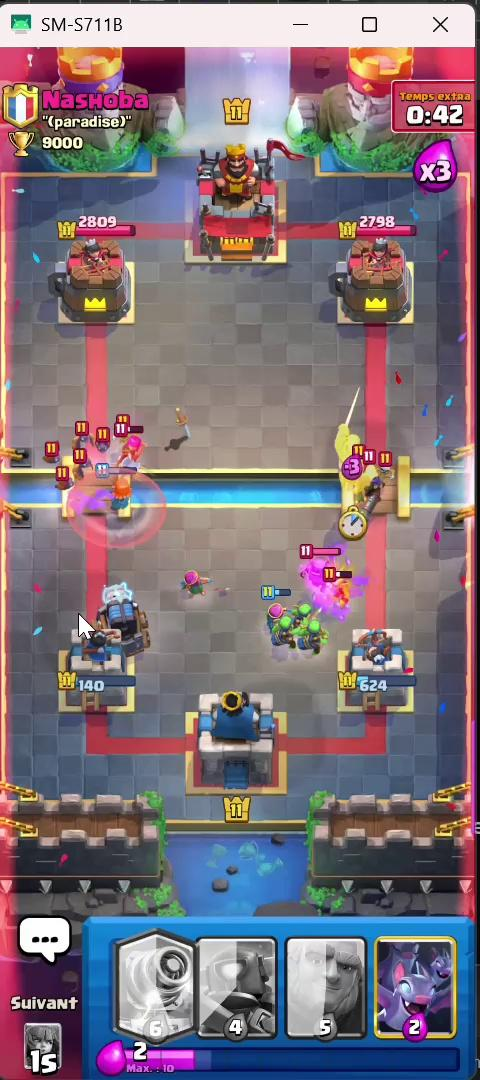archere: (106, 426, 180, 460), (183, 538, 219, 607), (255, 592, 290, 623)
bat: (30, 417, 63, 469), (54, 446, 95, 472), (65, 411, 91, 444), (44, 469, 73, 491), (92, 428, 118, 449)
gobelin_lances: (248, 617, 312, 643), (289, 592, 329, 629), (302, 624, 333, 653)
mini_PEKKA: (303, 545, 349, 596)
mousquetaire: (341, 457, 396, 511)
squelette: (375, 442, 407, 479)
valkyrie: (101, 451, 148, 528)
zappy: (75, 567, 175, 670)
